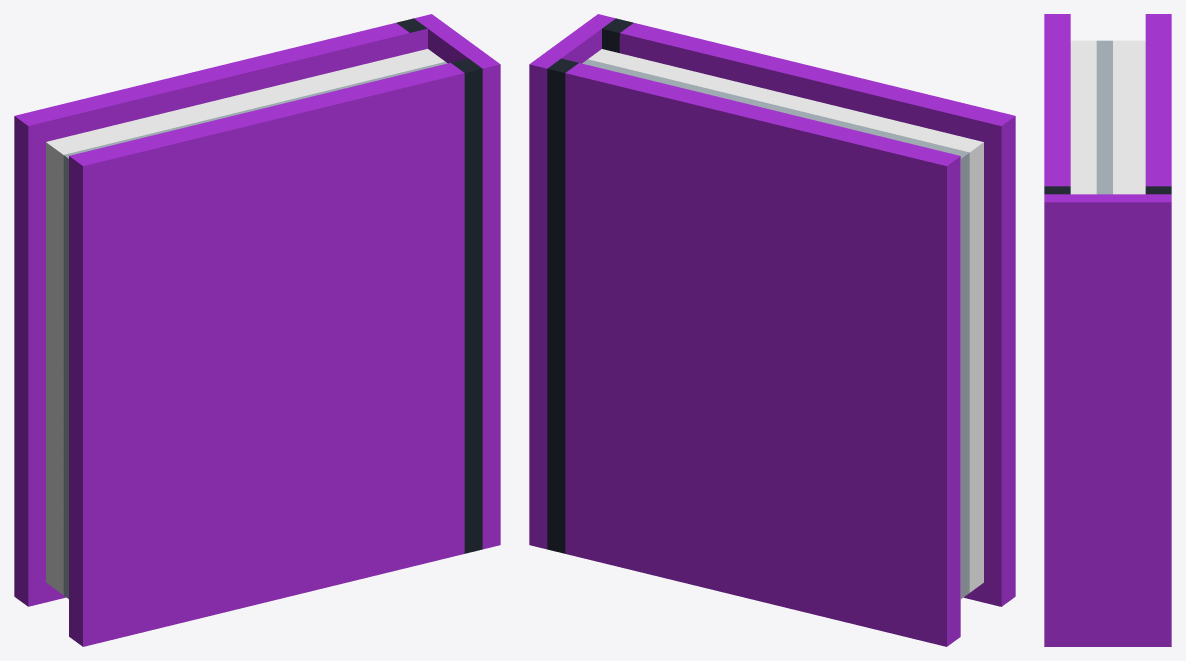
The model's file is Book_Standing03.fbx.
3 renders of one model, left to right at view 1: azimuth 30°, elevation 25°; view 2: azimuth 150°, elevation 25°; view 3: azimuth 270°, elevation 25°, orthographic. The views are drawn at different scales.
Visible parts, largest first — view 1: Cube.270; view 2: Cube.270; view 3: Cube.270.
Part boxes in pixels (x1=…): Cube.270: x1=14, y1=14, x2=500, y2=646; Cube.270: x1=529, y1=14, x2=1015, y2=646; Cube.270: x1=1044, y1=14, x2=1171, y2=646.
Size of the model in its own units: 30.63 by 33.7 by 8.74.
